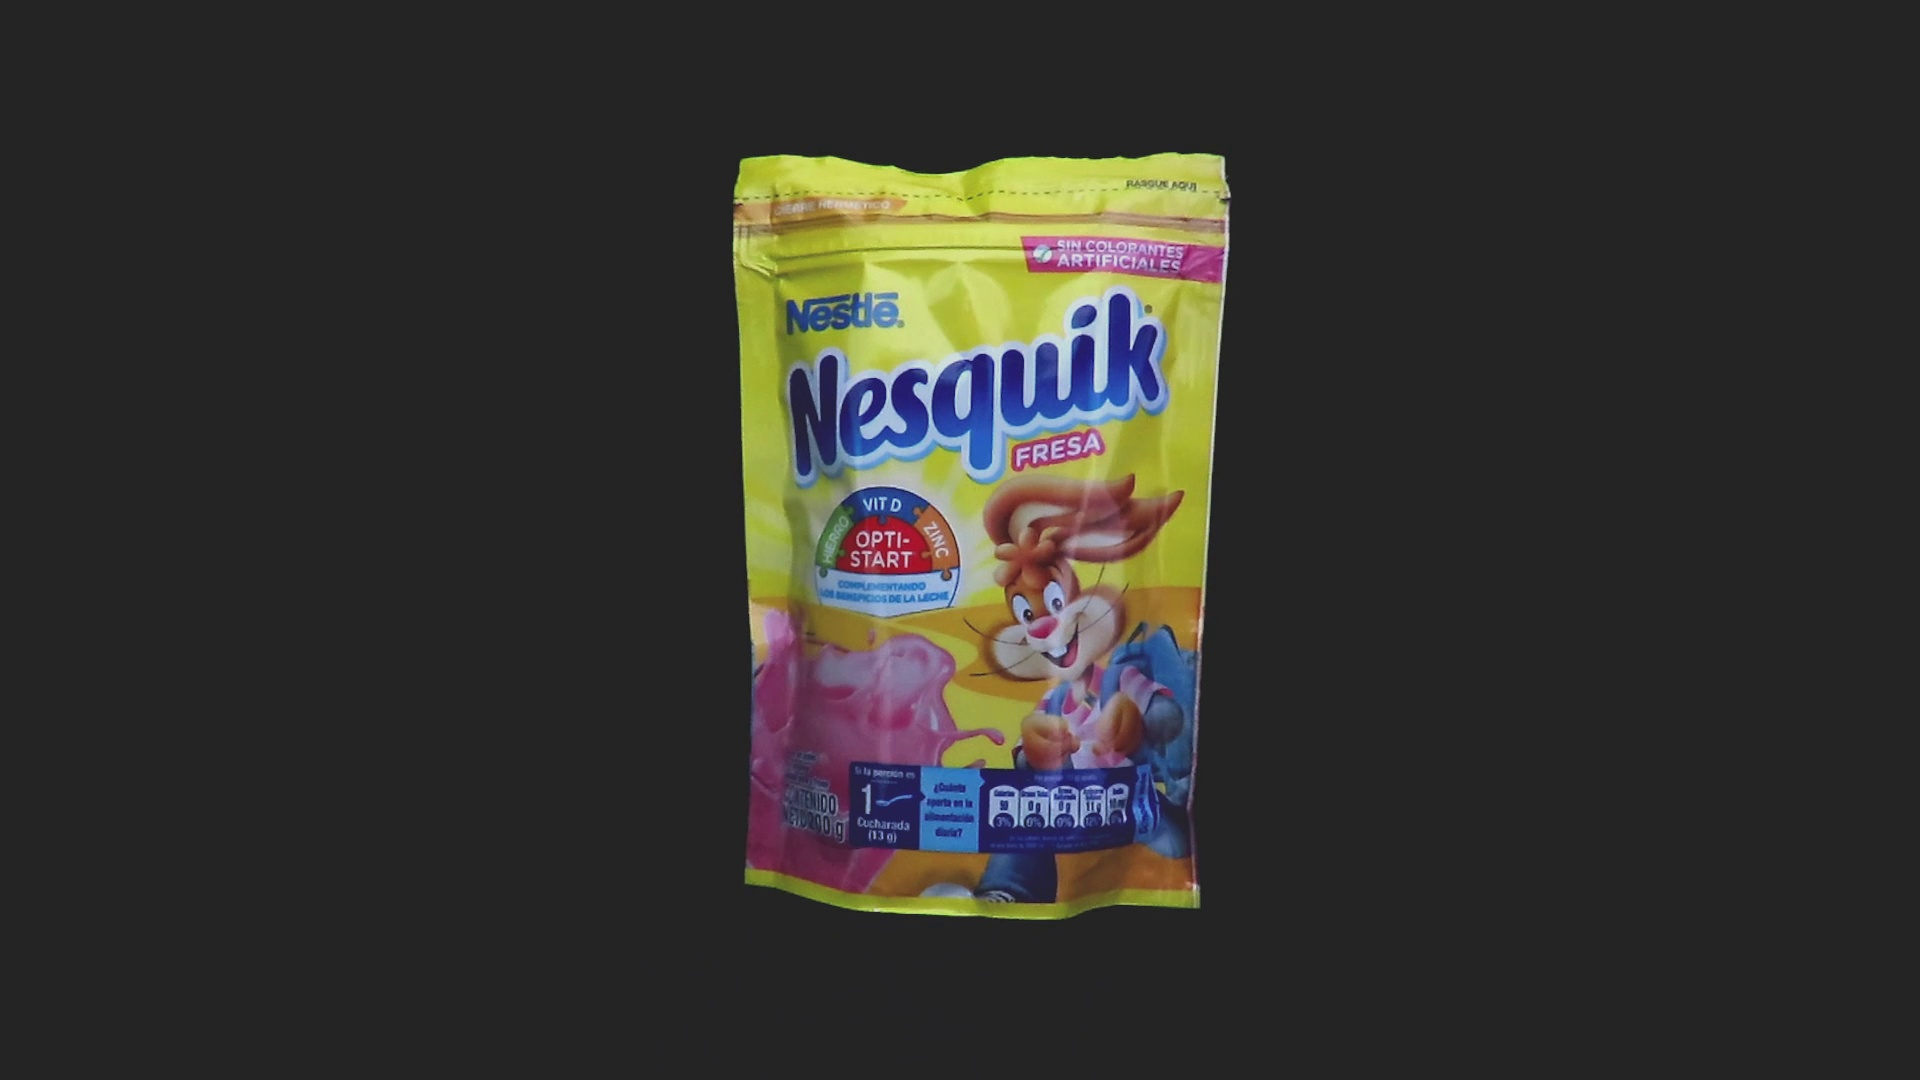COL0170305DYP20000: (728, 146, 1237, 926)
